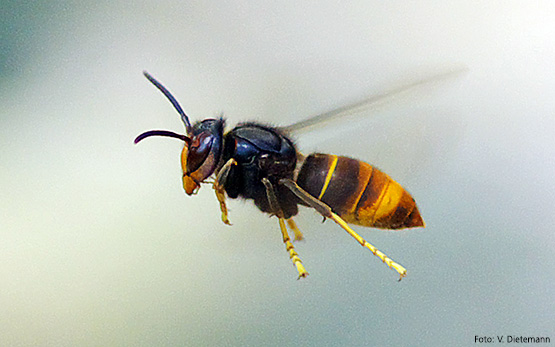hornet: (146, 94, 429, 278)
